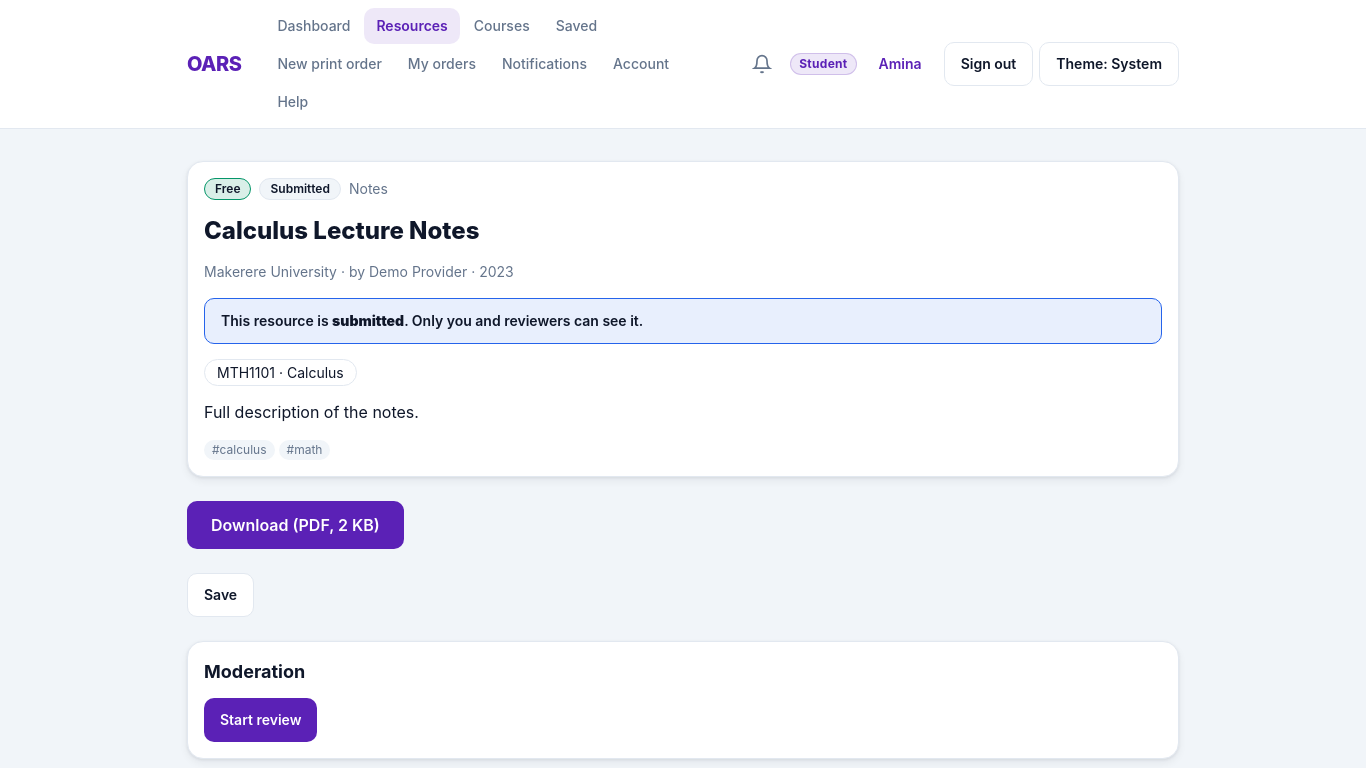
Scenario: ModerationPanel › surfaces the server's refusal (for example separation of duties)
The width and height of the screenshot is (1366, 768).
Click the button "Start review".
click(261, 720)  # box [204,698,317,742]
(page scrolled)
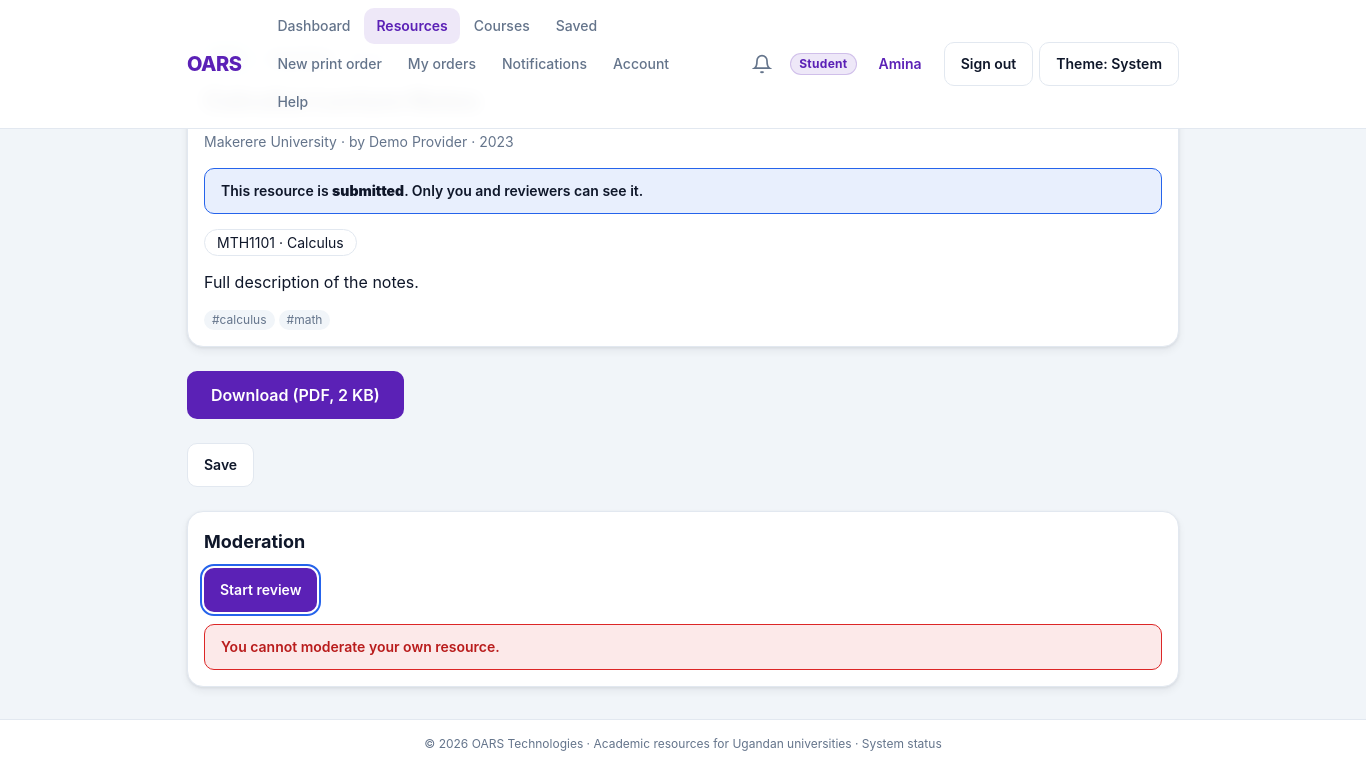
Expected: the text "You cannot moderate your own resource." is shown, [204,624,1162,670]
